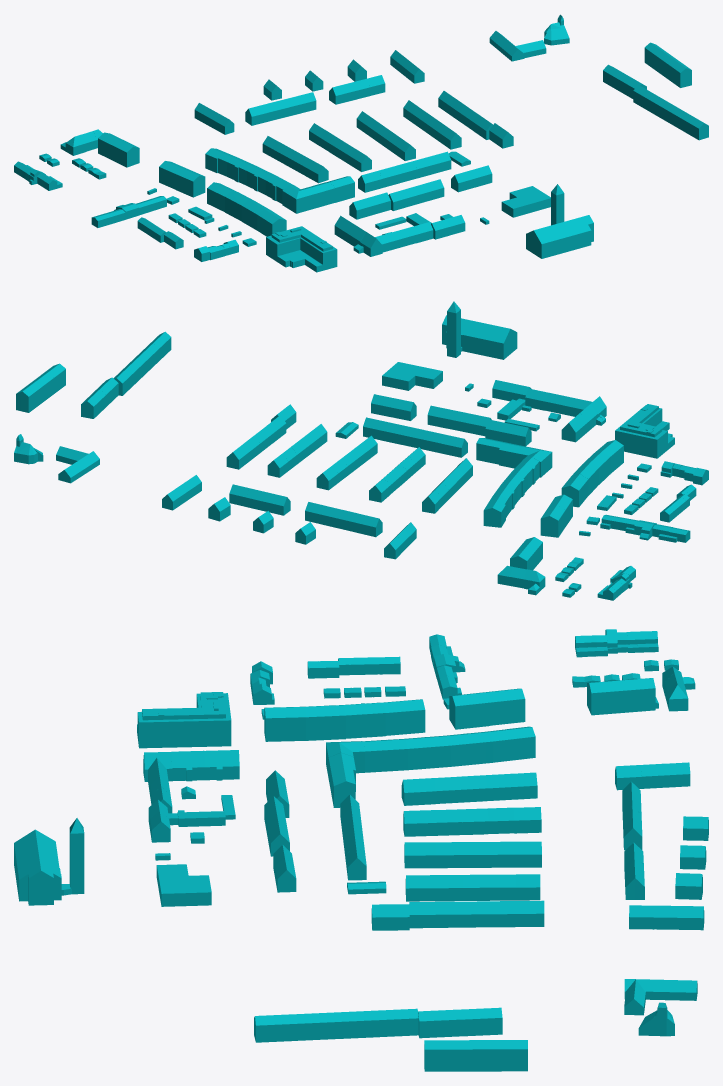
File: new_buildings.glb
The picture shows the model from 3 angles, top to bottom: view 1: azimuth 30°, elevation 25°; view 2: azimuth 150°, elevation 25°; view 3: azimuth 270°, elevation 25°; orthographic projection. The views are drawn at different scales.
Parts seen in each view (by area): view 1: world; view 2: world; view 3: world.
Part boxes in pixels (bbox=[...]): world: bbox=[14, 14, 708, 272]; world: bbox=[14, 301, 708, 600]; world: bbox=[14, 629, 708, 1071].
Size of the model in its own units: 494 by 39.9 by 339.
